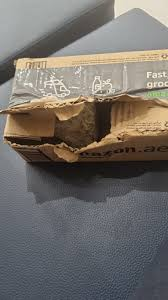damaged package: (2, 85, 118, 159)
